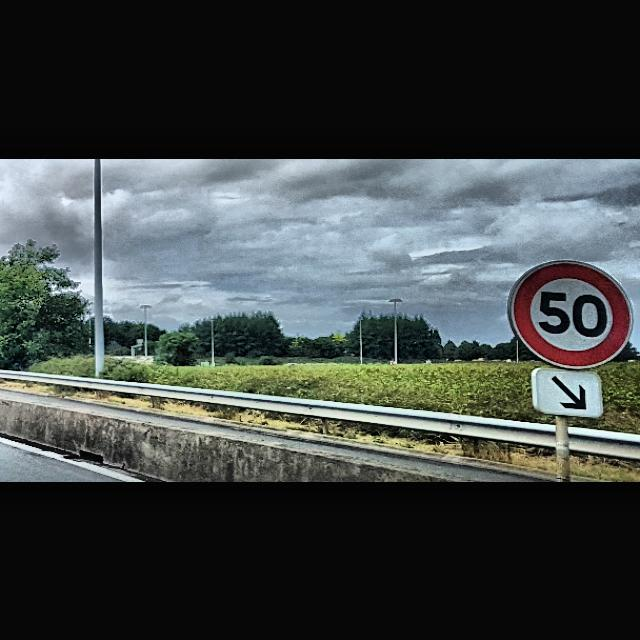speed_50: (509, 259, 635, 371)
